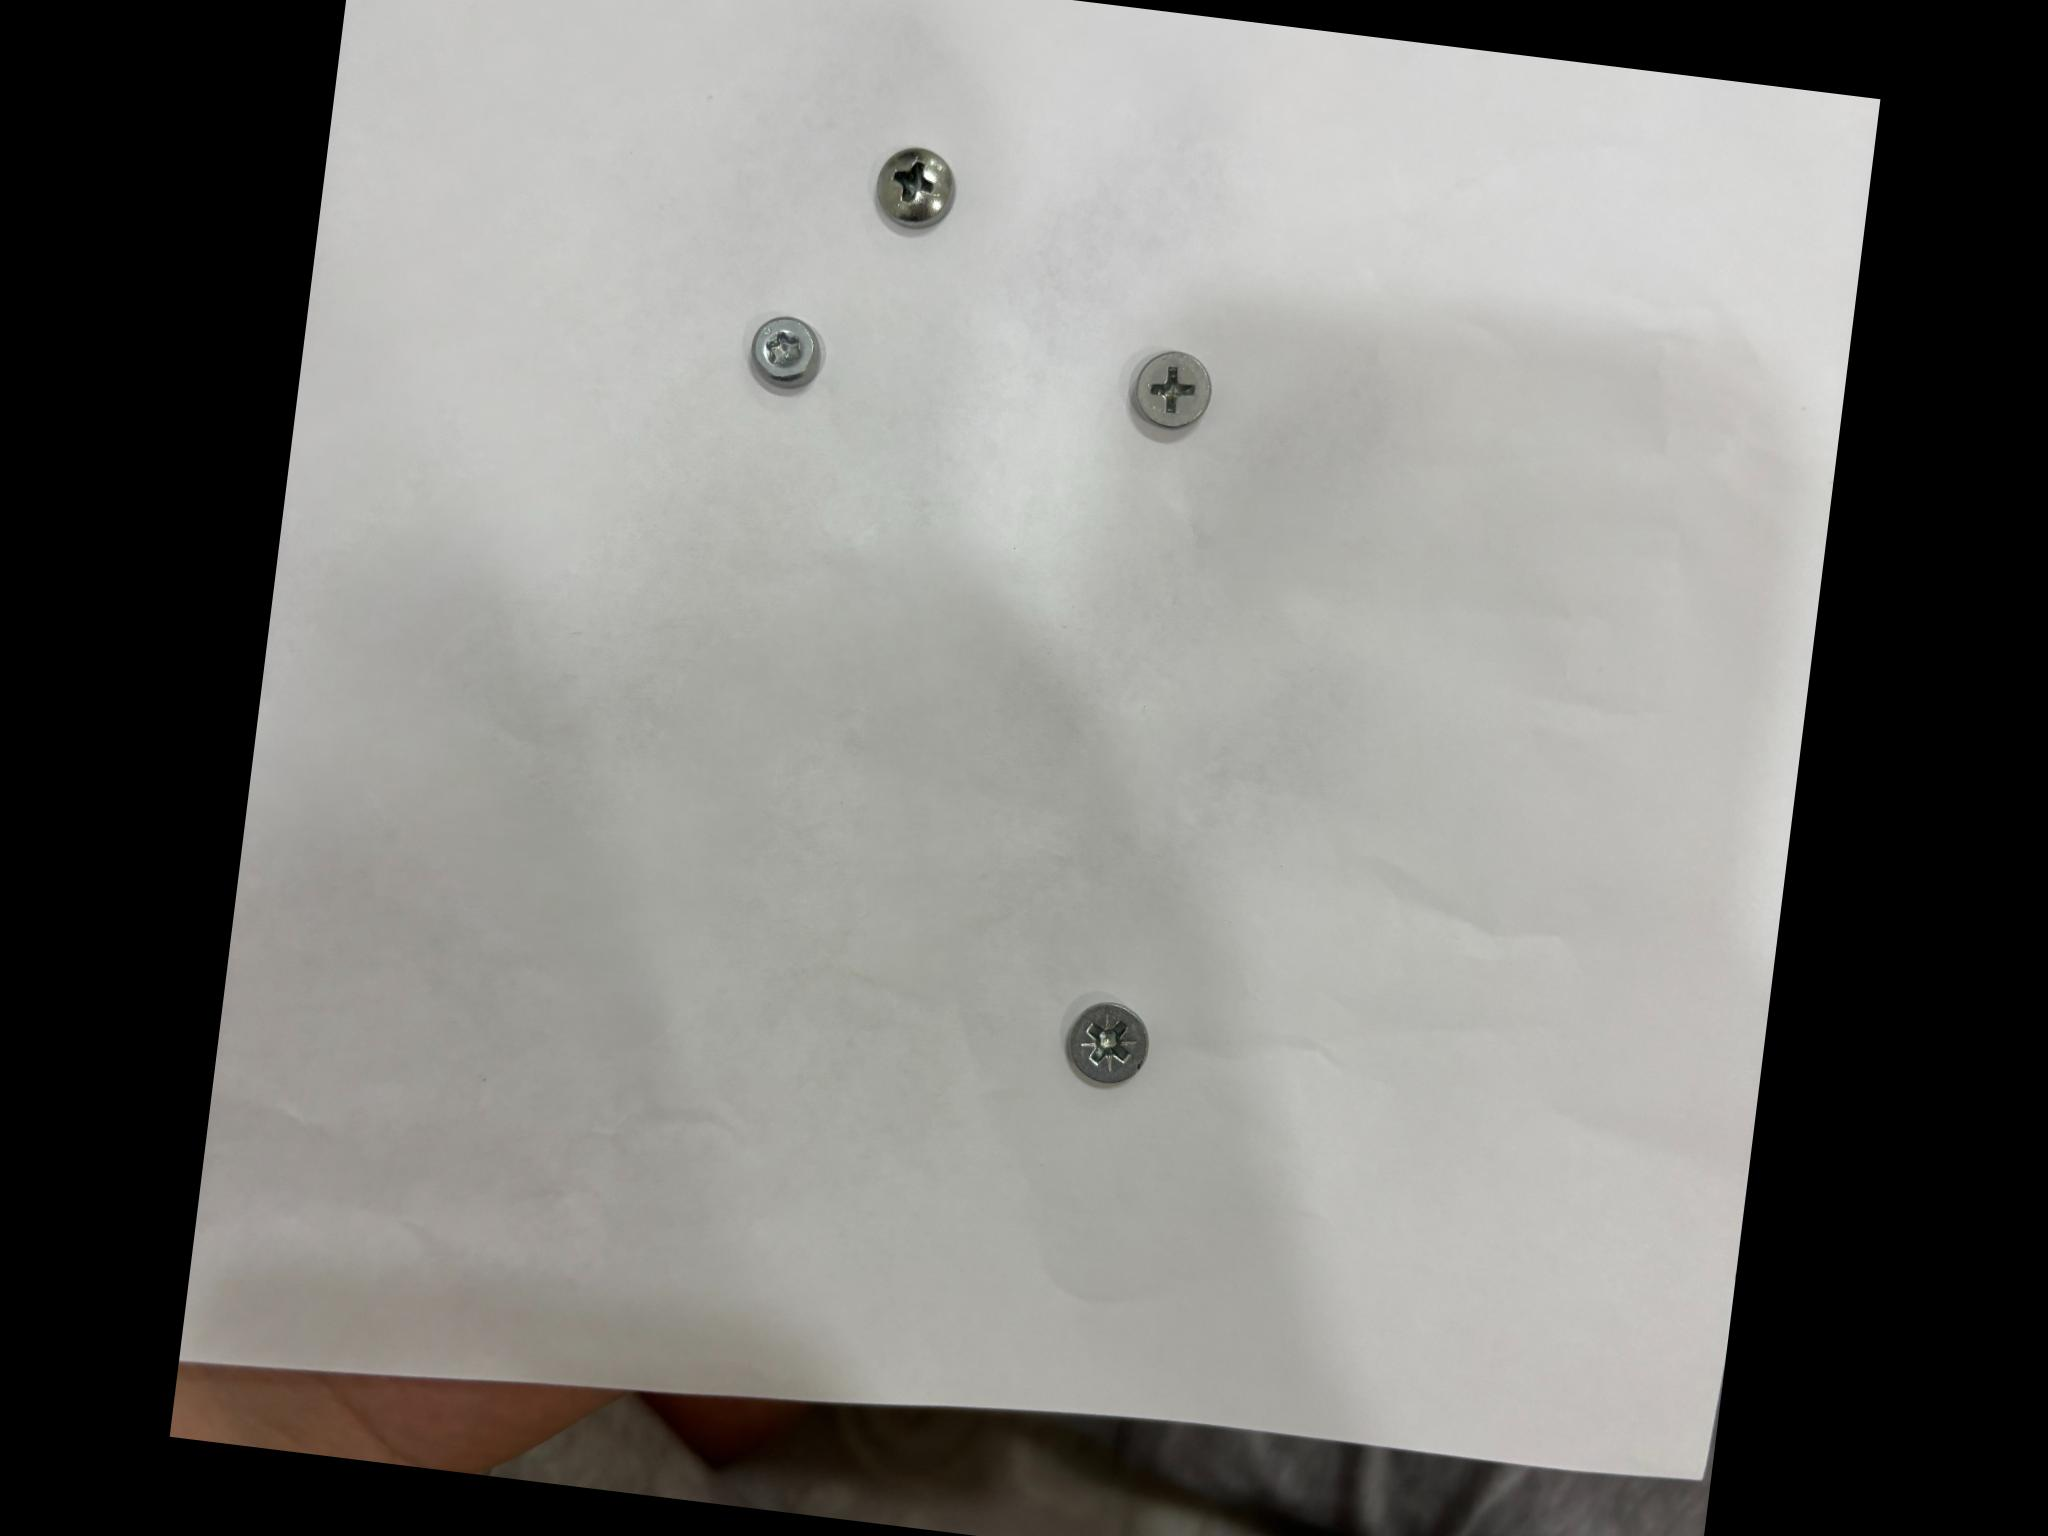PH: (1131, 351, 1209, 430), (876, 148, 953, 228)
PZ: (1066, 1003, 1146, 1085)
T: (750, 317, 817, 386)
